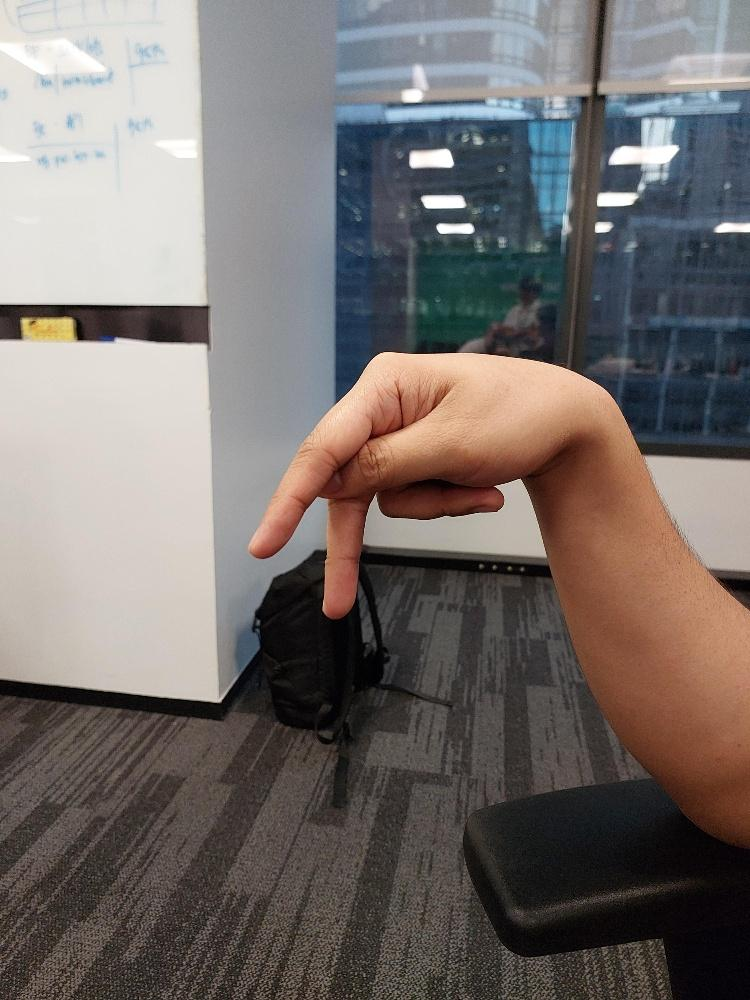p: (243, 345, 600, 623)
